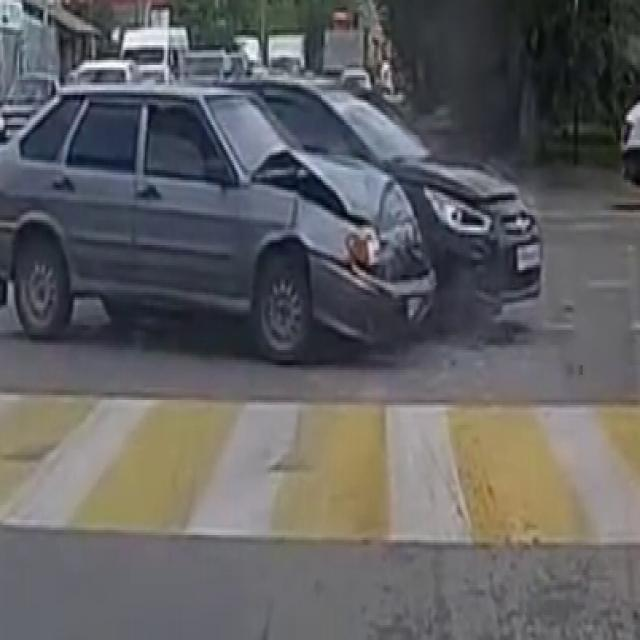accident: (81, 66, 546, 374)
